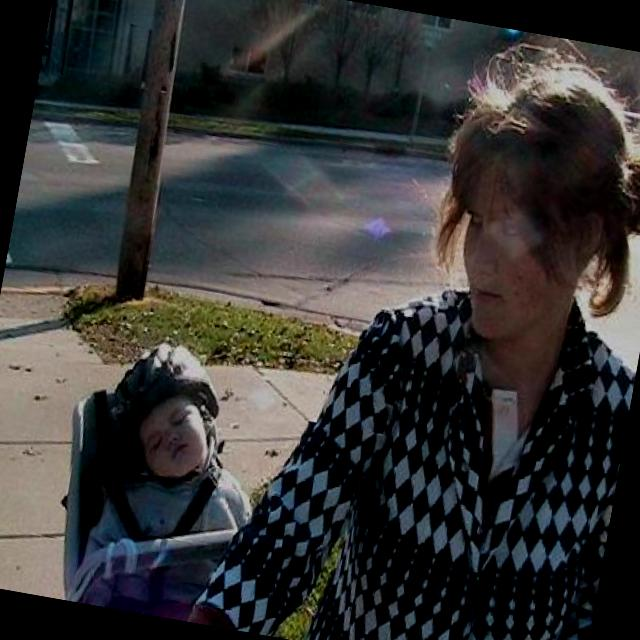Person: (187, 7, 640, 640), (67, 335, 280, 628)
